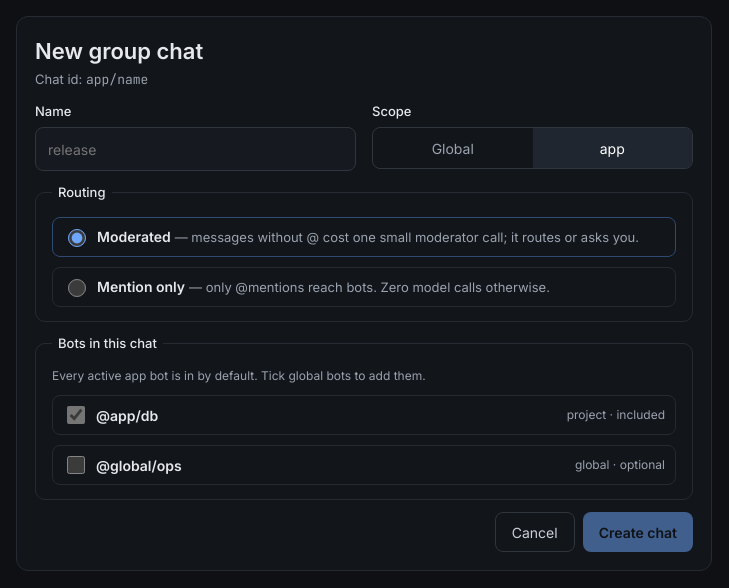
Test: ChatCreate › global chats block project bots; project chats include their own bots
This screenshot has width=729, height=588.
expect the checkbox labelled "@app/db project · included" is checked: met, box [67,406,85,424]
expect the checkbox labelled "@app/db project · included" is disabled: met, box [67,406,85,424]
Click the button "Global". click: (453, 148)
box: [373,128,532,168]
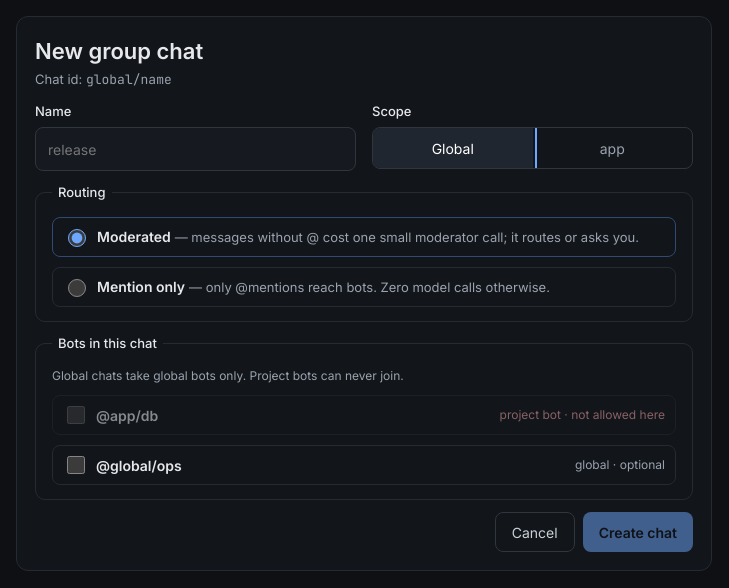
expect the checkbox labelled "@global/ops global · optional" is enabled: met, box [67,456,85,474]
expect the checkbox labelled "@app/db project bot · not allowed here" is not checked: met, box [67,406,85,424]
expect the text "project bot · not allowed here" is shown: met, box [500,406,665,424]
